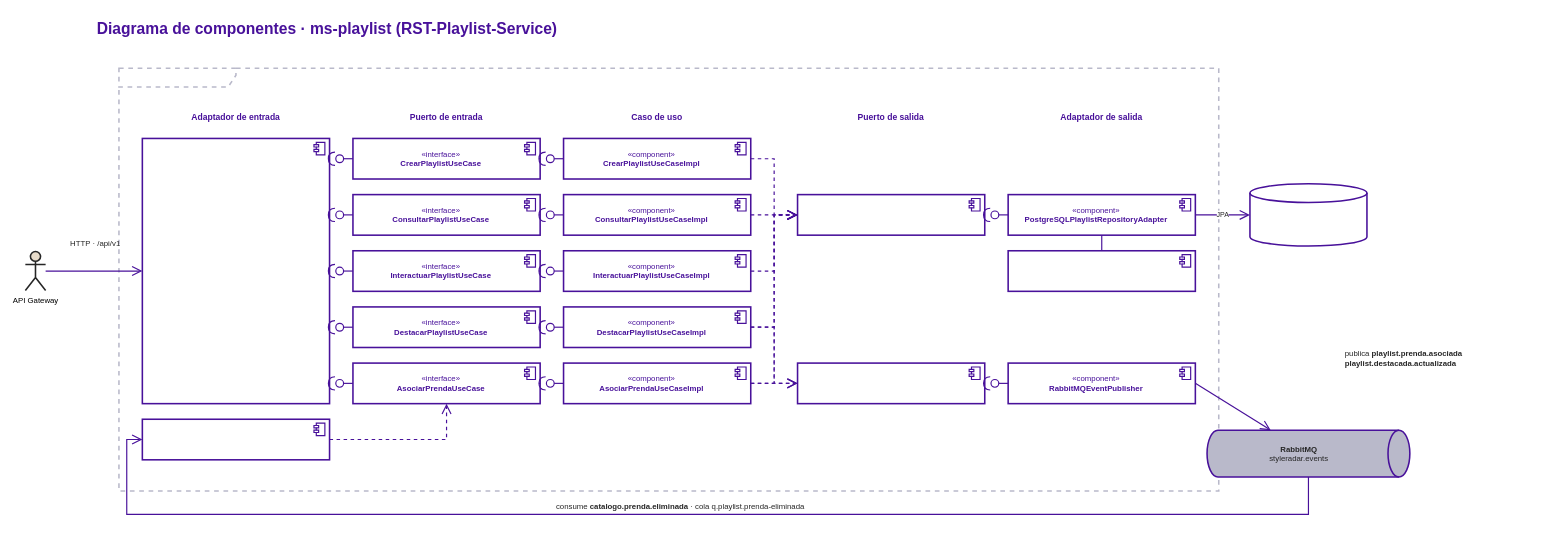
This 1559x537 diagram has some shape labels left out. Each missing label, with the box of its shape:
ms-playlist: (118, 67, 1219, 491)
PostgreSQL 16 playlist_db: (1249, 183, 1367, 246)
«component» CatalogoEventsConsumer: (141, 418, 330, 460)
«component» PlaylistController: (141, 137, 330, 404)
«component» PlaylistEntityMapper: (1007, 250, 1196, 292)
«interface» PlaylistEventPublisherPort: (796, 362, 985, 404)
«interface» PlaylistRepositoryPort: (796, 193, 985, 236)
